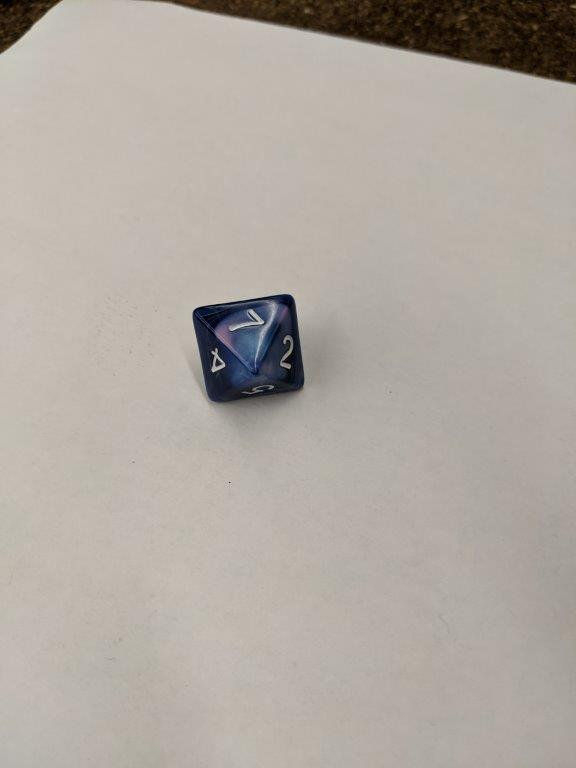d8-7: (192, 291, 305, 405)
